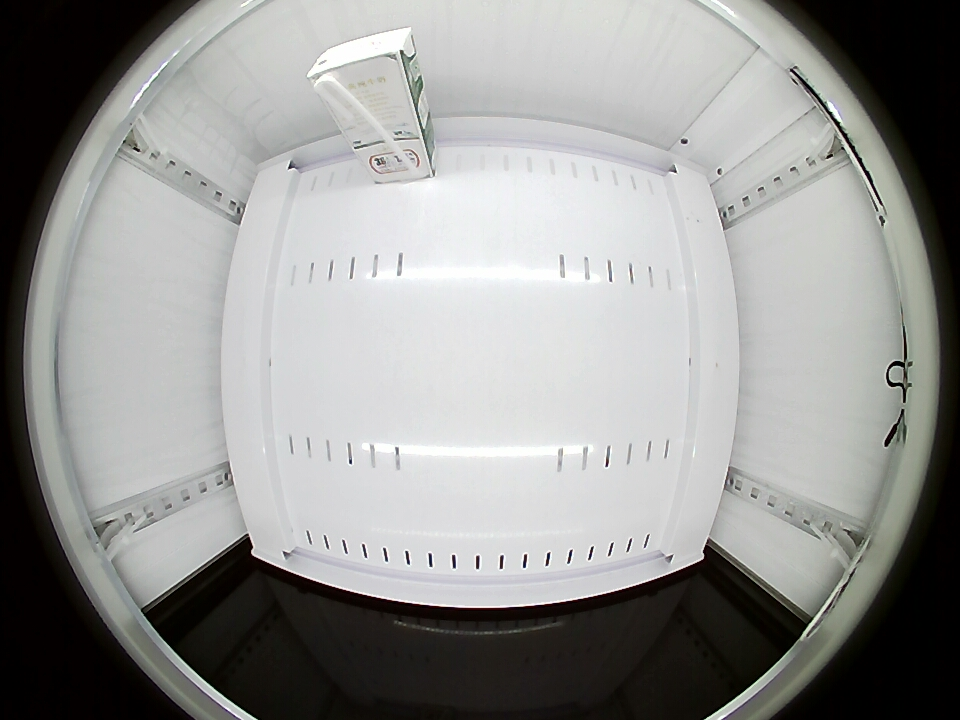jindian: (307, 26, 418, 101)
